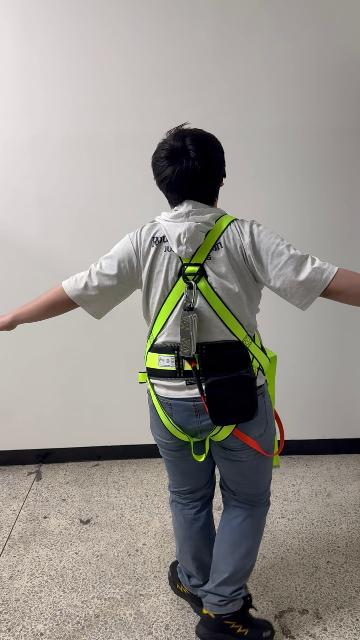helmet_not_worn: (147, 128, 231, 206)
shoe_worn: (197, 597, 274, 640), (168, 561, 206, 614)
vest_worn: (139, 219, 280, 455)
